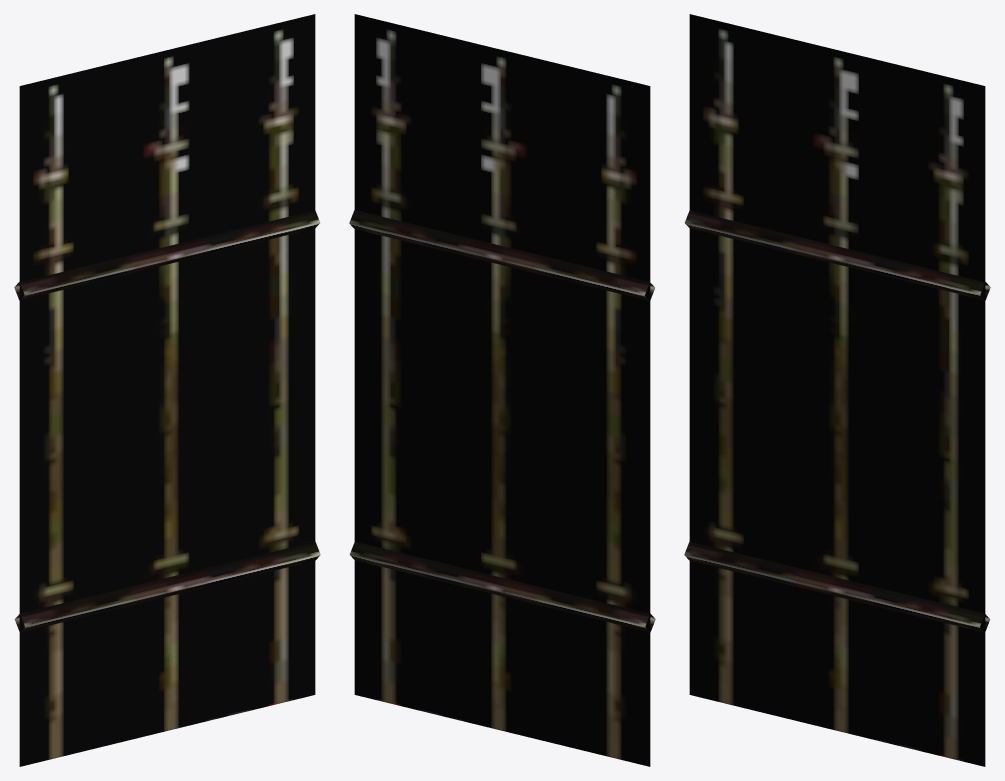
3 views of the same model, side by side, from view 1: azimuth 30°, elevation 25°; view 2: azimuth 150°, elevation 25°; view 3: azimuth 330°, elevation 25° (orthographic).
Visible parts, largest first — view 1: SteelWall03; view 2: SteelWall03; view 3: SteelWall03.
Part boxes in pixels (x1,y1,x2,y2): SteelWall03: (14,14,320,766); SteelWall03: (349,14,655,766); SteelWall03: (684,14,990,766).
Bounding box in the file's own units: 100 × 220 × 6.44.
